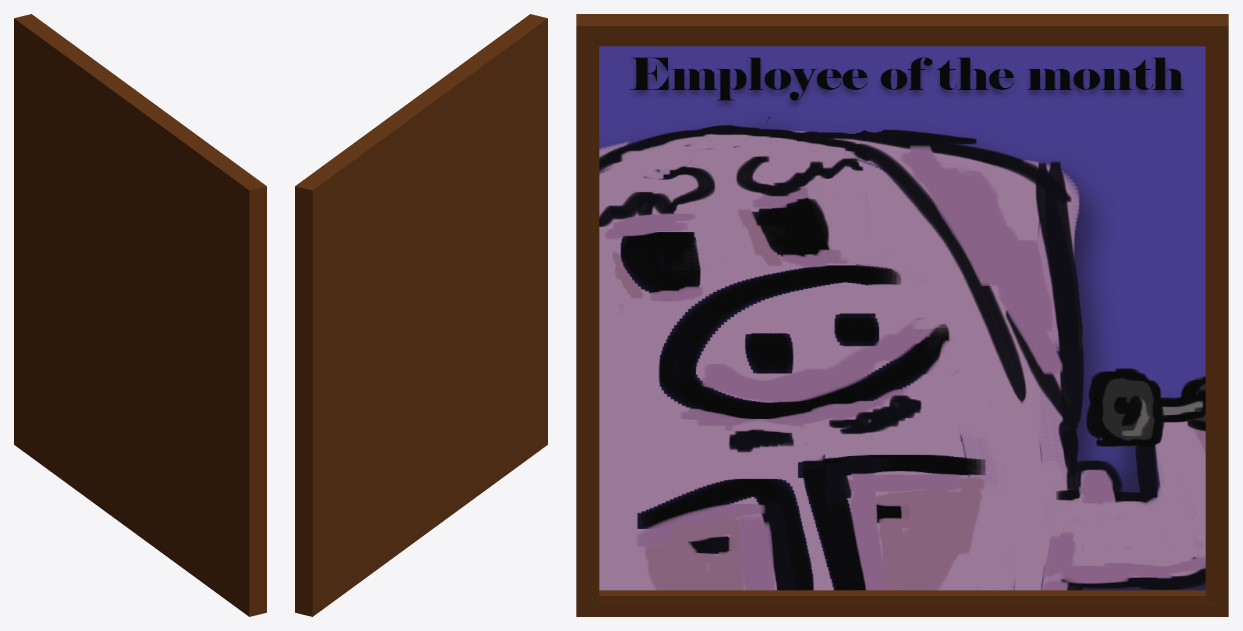
The model's file is Tableau (1).fbx.
3 views of the same model, side by side, from view 1: azimuth 30°, elevation 25°; view 2: azimuth 150°, elevation 25°; view 3: azimuth 270°, elevation 25° (orthographic). The views are drawn at different scales.
Visible parts, largest first — view 1: Tableau; view 2: Tableau; view 3: Tableau.
Part boxes in pixels (x1=…): Tableau: x1=14, y1=14, x2=266, y2=616; Tableau: x1=295, y1=14, x2=547, y2=616; Tableau: x1=576, y1=14, x2=1228, y2=616.
Bounding box in the file's own units: 22.58 × 525 × 525.
